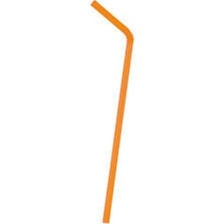drinking_straw: (84, 0, 140, 224)
